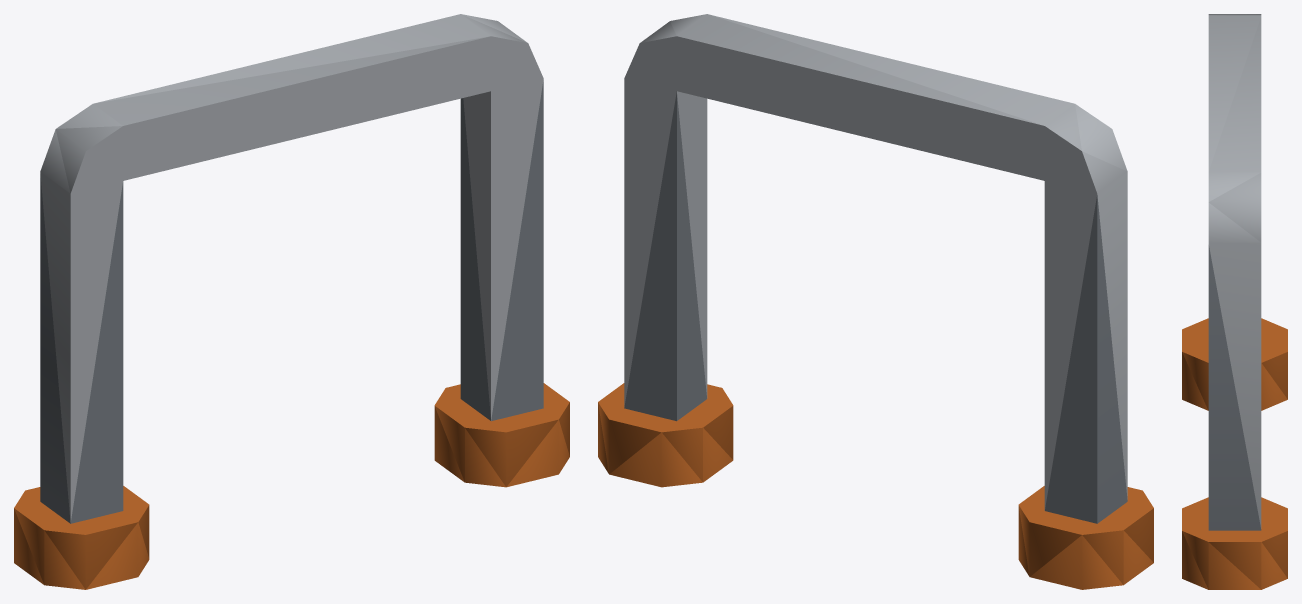
Rendered from Kit_rail-narrow.fbx.
3 views of the same model, side by side, from view 1: azimuth 30°, elevation 25°; view 2: azimuth 150°, elevation 25°; view 3: azimuth 270°, elevation 25° (orthographic). The views are drawn at different scales.
Visible parts, largest first — view 1: Kit_rail-narrow; view 2: Kit_rail-narrow; view 3: Kit_rail-narrow.
Boxes of the visible parts, x1=… form: Kit_rail-narrow: x1=14, y1=14, x2=569, y2=589; Kit_rail-narrow: x1=598, y1=14, x2=1153, y2=589; Kit_rail-narrow: x1=1182, y1=14, x2=1287, y2=589.
Bounding box in the file's own units: 0.5 × 0.4 × 0.1.
